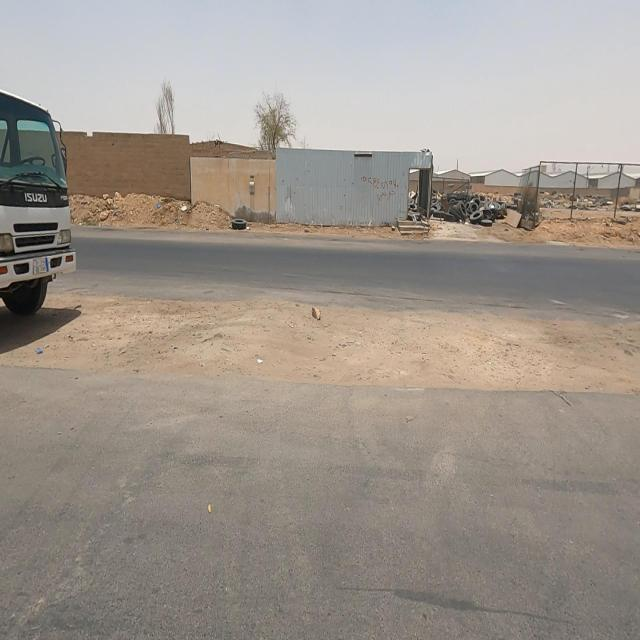Graffiti: (361, 176, 400, 202)
